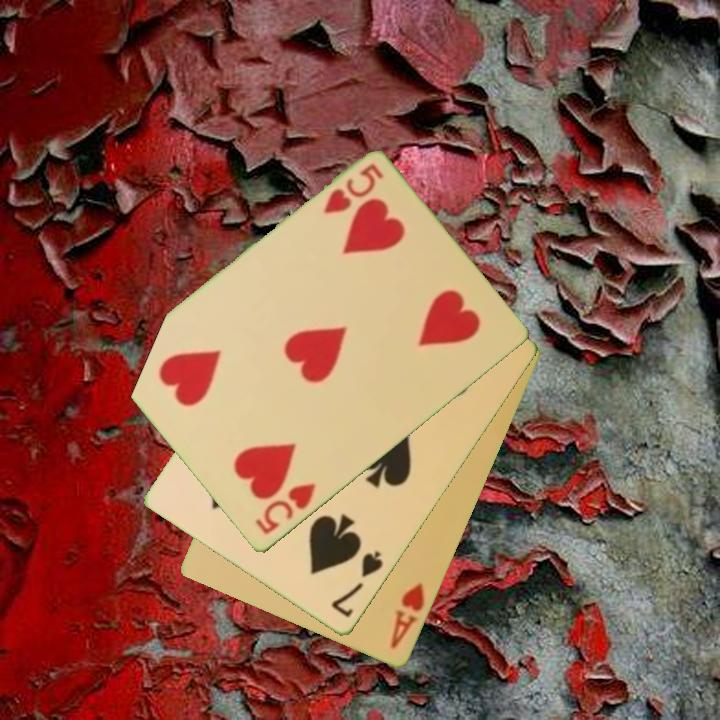5h: (251, 480, 319, 538), (320, 160, 386, 218)
7s: (327, 548, 387, 621)
Ah: (386, 580, 428, 652)
